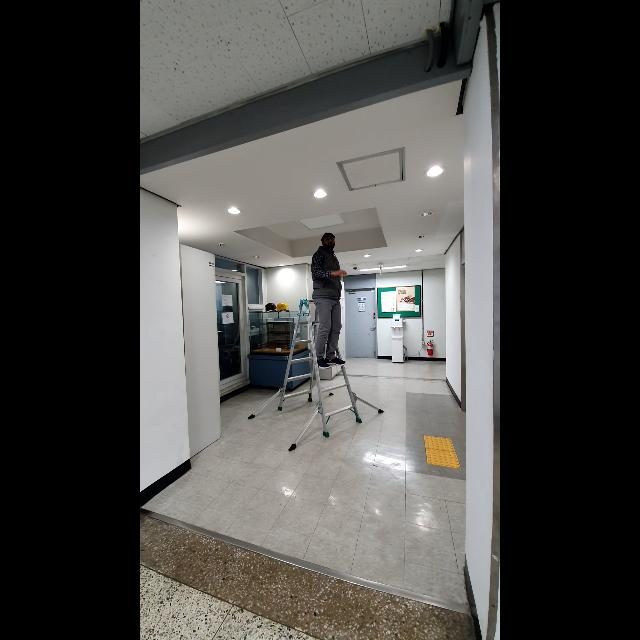boots: (245, 296, 387, 454)
vest: (307, 232, 348, 372)
